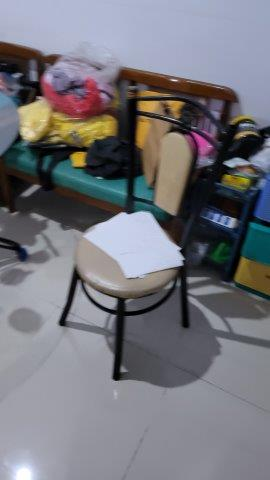kertas: (78, 209, 189, 278)
